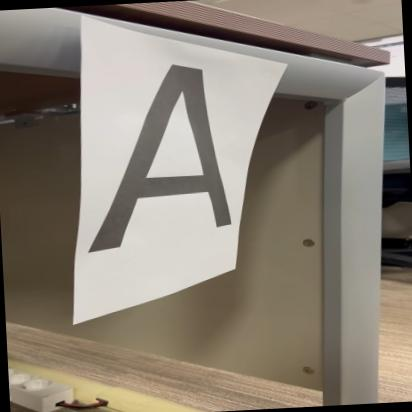seat: (82, 50, 247, 272)
